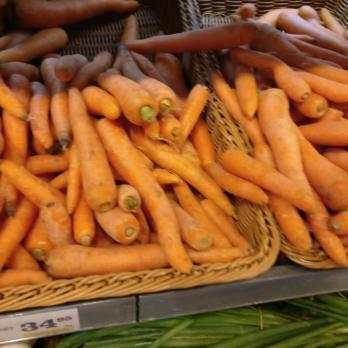Carrot: (4, 4, 198, 271), (207, 0, 348, 258)
